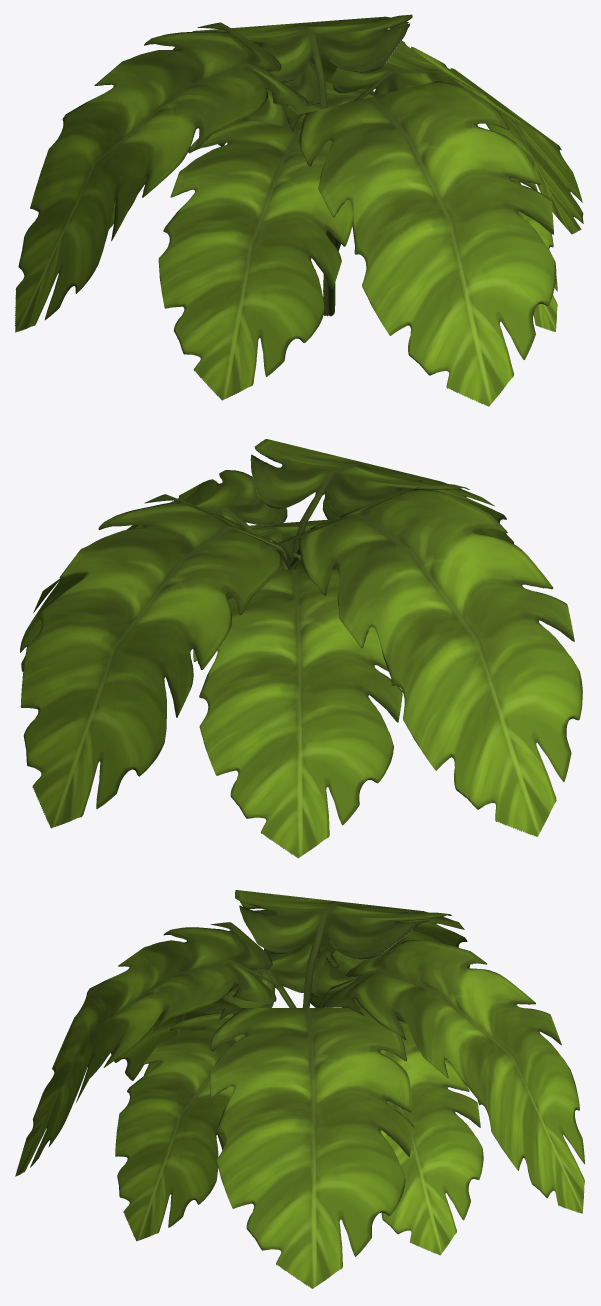
Rendered from R4YL_PROP_palm_ground_group.FBX.
3 renders of one model, top to bottom at view 1: azimuth 30°, elevation 25°; view 2: azimuth 150°, elevation 25°; view 3: azimuth 270°, elevation 25°, orthographic. The views are drawn at different scales.
Visible parts, largest first — view 1: R4YL_PROP_palm_ground_group; view 2: R4YL_PROP_palm_ground_group; view 3: R4YL_PROP_palm_ground_group.
Part boxes in pixels (x1,y1,x2,y2): R4YL_PROP_palm_ground_group: (15,14,583,406); R4YL_PROP_palm_ground_group: (20,439,582,858); R4YL_PROP_palm_ground_group: (15,890,584,1288).
Size of the model in its own units: 111 by 52.99 by 112.
